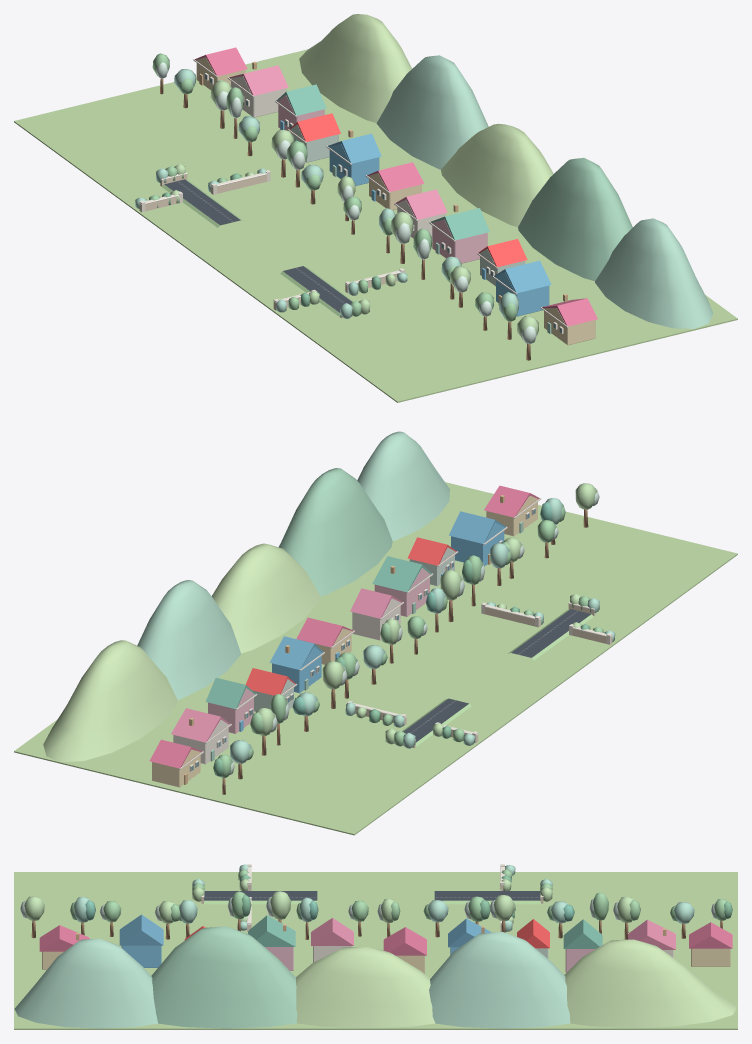
The model's file is town_far.glb.
3 views of the same model, one above another, from view 1: azimuth 30°, elevation 25°; view 2: azimuth 150°, elevation 25°; view 3: azimuth 270°, elevation 25° (orthographic). The views are drawn at different scales.
Visible parts, largest first — view 1: GrassBase, Hills, DistantHomes, TreeBelt, StreetEndGreenery, RoadContinuation, StreetEndWalls, RoadVerge; view 2: GrassBase, Hills, DistantHomes, TreeBelt, StreetEndGreenery, RoadContinuation, StreetEndWalls, RoadVerge; view 3: Hills, GrassBase, DistantHomes, TreeBelt, RoadContinuation, StreetEndGreenery, RoadVerge, StreetEndWalls.
Part boxes in pixels (bbox=[...]): GrassBase: bbox=[14, 49, 737, 402]; Hills: bbox=[299, 14, 713, 328]; DistantHomes: bbox=[193, 47, 597, 345]; TreeBelt: bbox=[152, 53, 538, 360]; StreetEndGreenery: bbox=[135, 164, 407, 319]; RoadContinuation: bbox=[164, 179, 352, 312]; StreetEndWalls: bbox=[139, 170, 404, 318]; RoadVerge: bbox=[162, 179, 353, 317]; GrassBase: bbox=[14, 482, 737, 835]; Hills: bbox=[43, 431, 449, 762]; DistantHomes: bbox=[149, 485, 541, 787]; TreeBelt: bbox=[213, 483, 599, 794]; StreetEndGreenery: bbox=[345, 593, 615, 748]; RoadContinuation: bbox=[403, 609, 591, 742]; StreetEndWalls: bbox=[347, 602, 612, 747]; RoadVerge: bbox=[402, 609, 593, 746]; Hills: bbox=[14, 926, 737, 1028]; GrassBase: bbox=[14, 872, 737, 1029]; DistantHomes: bbox=[39, 914, 732, 973]; TreeBelt: bbox=[20, 891, 732, 939]; RoadContinuation: bbox=[204, 891, 540, 900]; StreetEndGreenery: bbox=[192, 864, 552, 931]; RoadVerge: bbox=[204, 900, 540, 904]; StreetEndWalls: bbox=[201, 864, 543, 931].
Size of the model in its own units: 41 by 10.61 by 80.
Materials: 25 (25 with a texture image).
